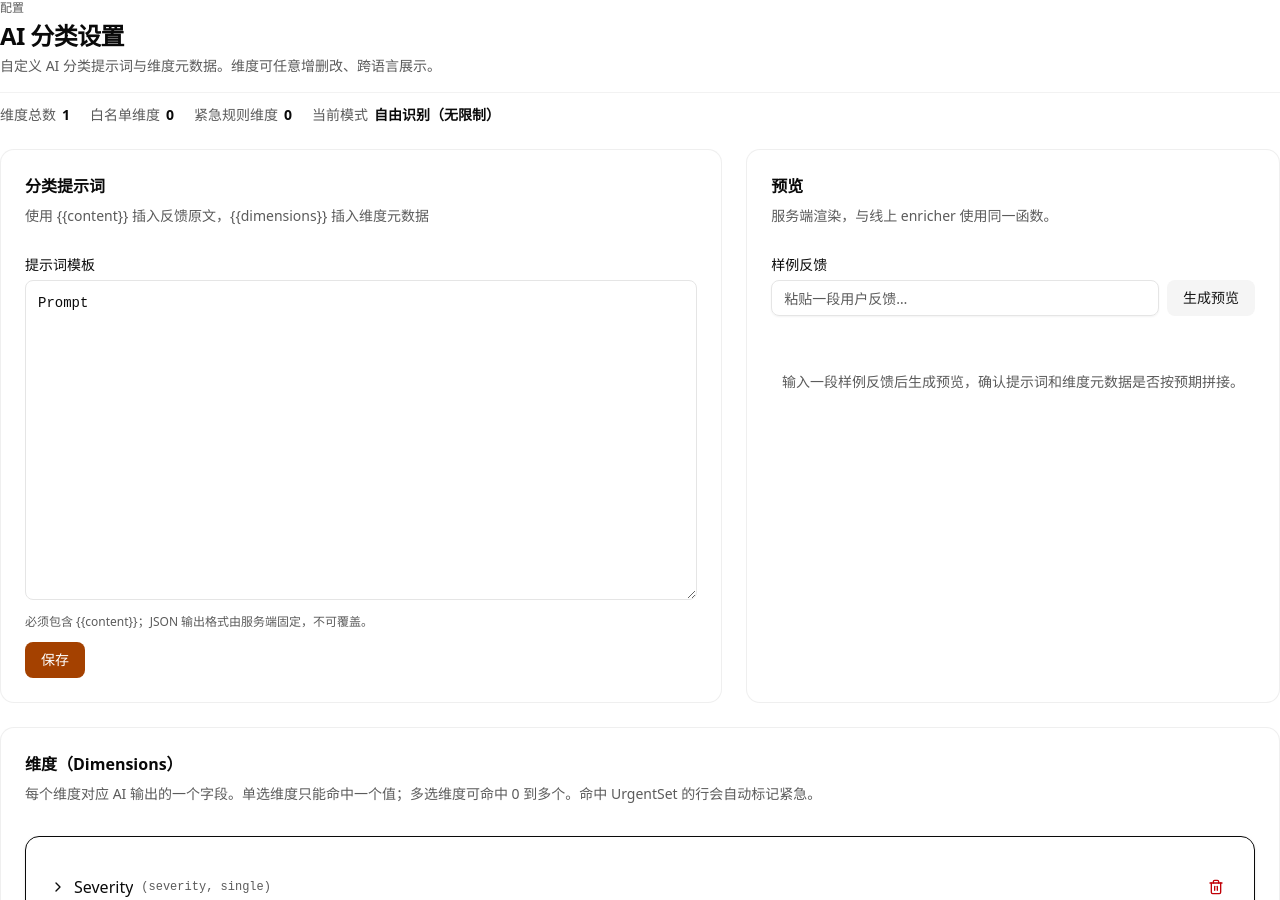
it: ClassificationSettingsPage › draft durability (#172) › discard confirmation can be cancelled without losing edits
Replace the text in the text box labelled "提示词模板" with "dirty edit" at (361, 440), box x1=25 y1=280 x2=697 y2=600
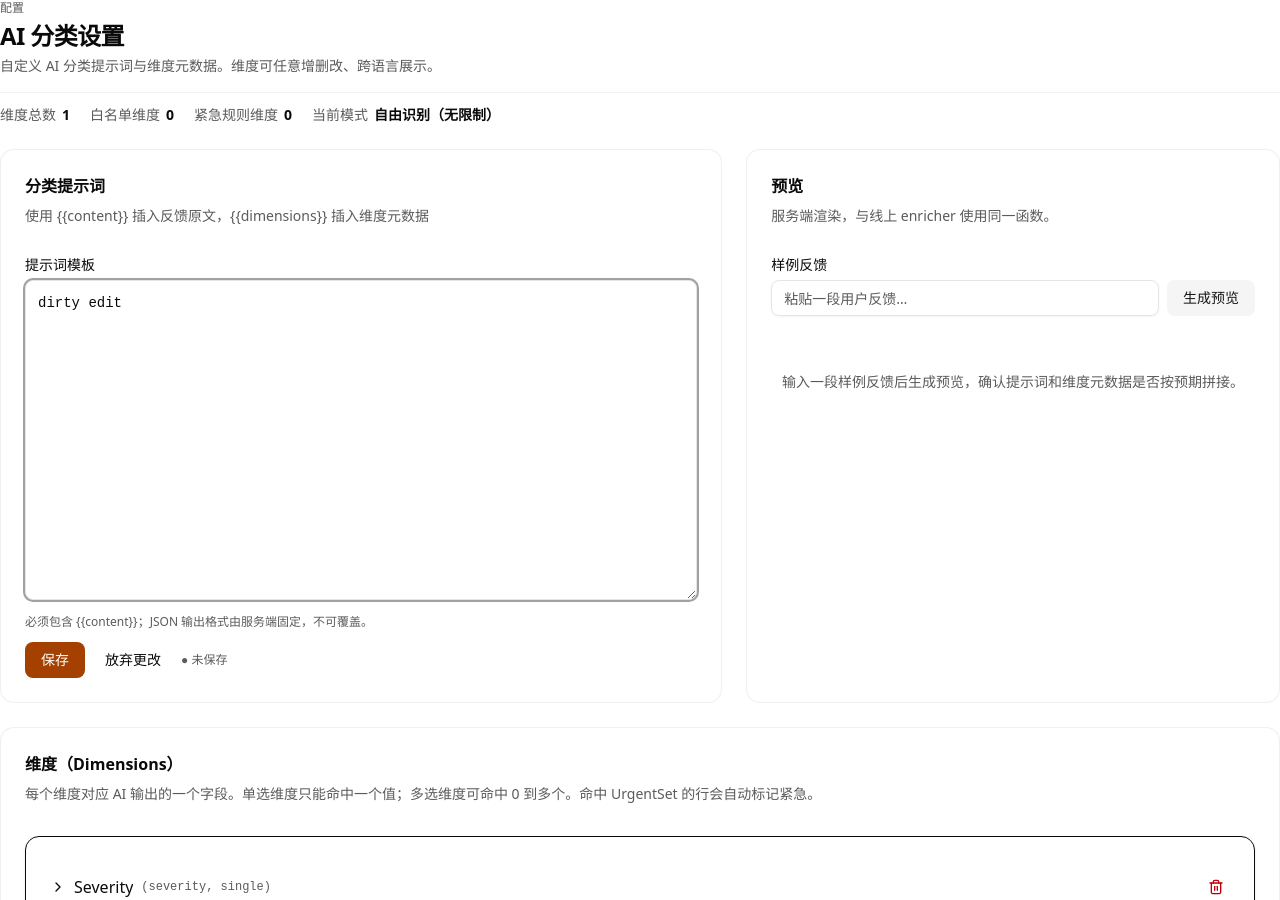
Click the button "放弃更改".
click(133, 660)  # box x1=93 y1=644 x2=173 y2=676
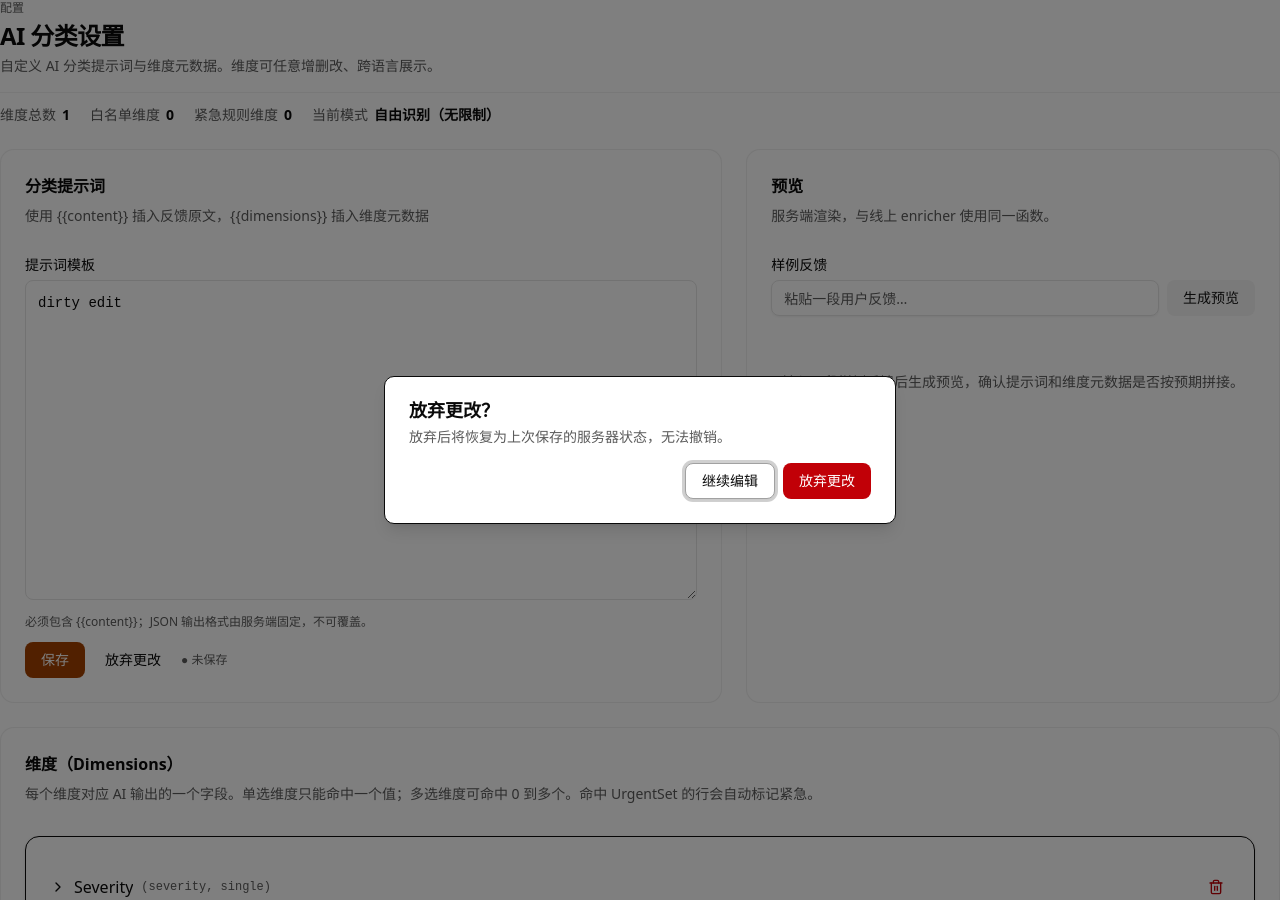
Click the button "继续编辑".
click(730, 481)  # box x1=685 y1=463 x2=775 y2=499
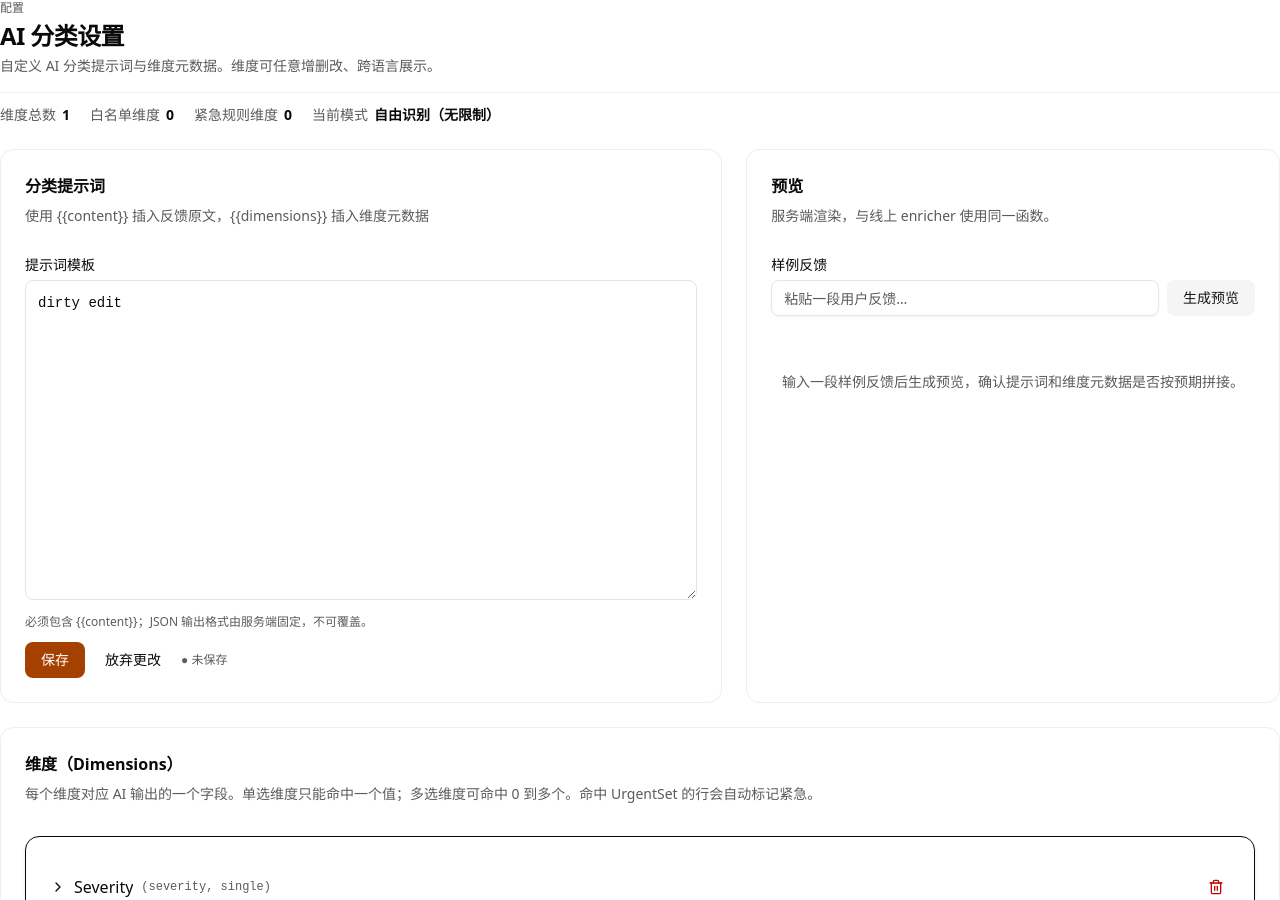
Result: the dialog is gone
